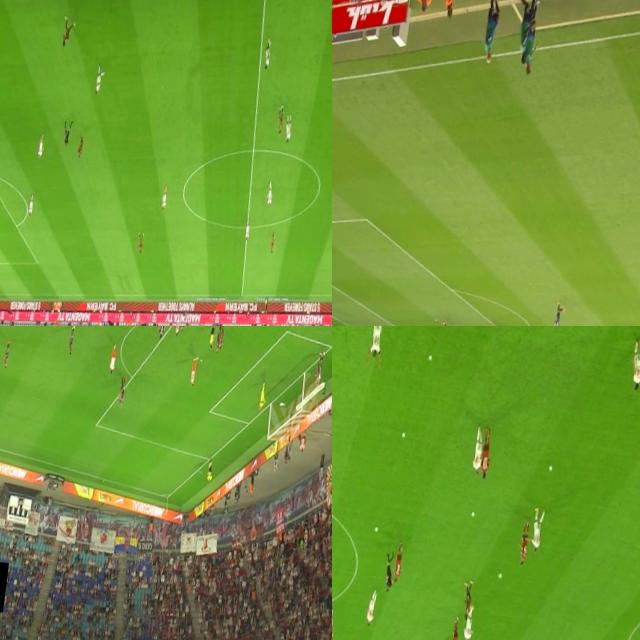ball: (496, 570, 502, 580), (400, 432, 406, 438), (428, 353, 432, 362), (374, 524, 378, 532), (470, 510, 474, 516), (548, 468, 552, 472)
player: (366, 326, 386, 367), (469, 422, 485, 472), (528, 506, 544, 556), (477, 424, 492, 476), (627, 334, 640, 393), (518, 518, 532, 564), (460, 574, 473, 620), (60, 14, 76, 48), (314, 348, 326, 386), (92, 62, 105, 96), (392, 540, 402, 582), (462, 605, 474, 640), (366, 587, 376, 629), (262, 35, 272, 69), (2, 336, 12, 370), (117, 376, 127, 410), (551, 302, 565, 326), (108, 342, 118, 374), (258, 380, 268, 412), (188, 355, 198, 387), (282, 114, 292, 144), (66, 326, 76, 354), (264, 180, 274, 207), (447, 620, 460, 640), (276, 102, 284, 134), (76, 132, 85, 160), (36, 130, 45, 158), (214, 326, 223, 354), (242, 218, 252, 242), (135, 230, 145, 254), (160, 184, 168, 211), (218, 326, 226, 350), (268, 232, 276, 254), (156, 326, 168, 340), (28, 192, 34, 216), (332, 605, 336, 640), (171, 326, 183, 337)
